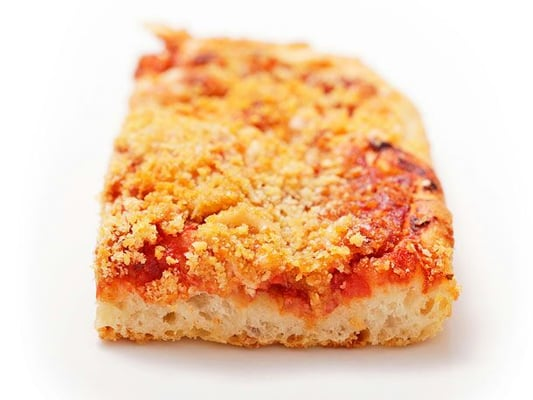sandwich: (93, 44, 460, 351)
sushi: (91, 26, 461, 351)
